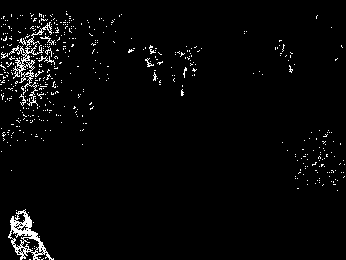person: (8, 208, 54, 260)
